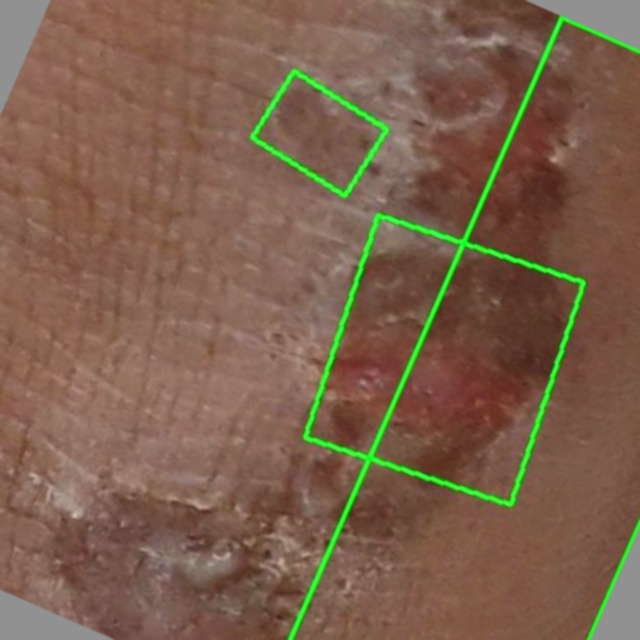Contact Dermatitis: (290, 17, 639, 639), (304, 215, 583, 505), (251, 71, 386, 196)
